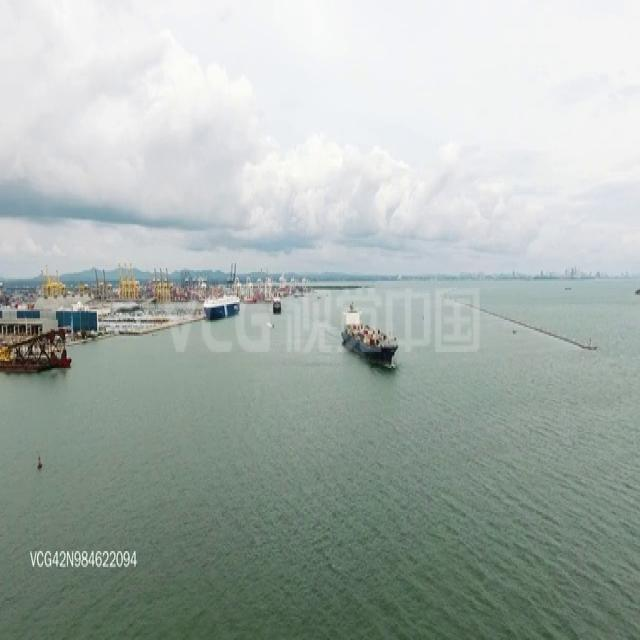cargoship: (336, 298, 401, 368)
